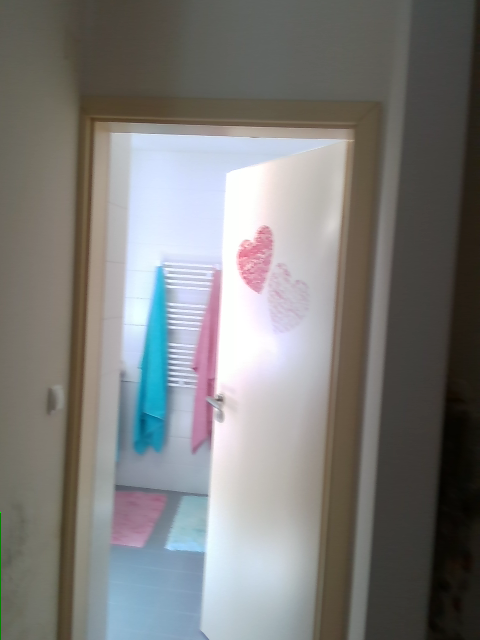semi: (54, 97, 384, 639)
